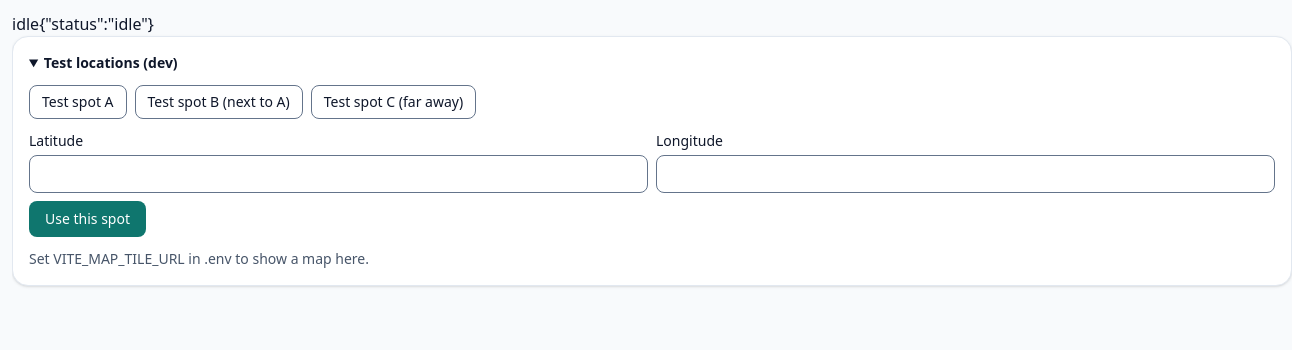
Test: DevLocationPicker › preset Test spot A selects u4pruyd
Click the button "Test spot A".
click(78, 102)  # box [29,85,126,119]
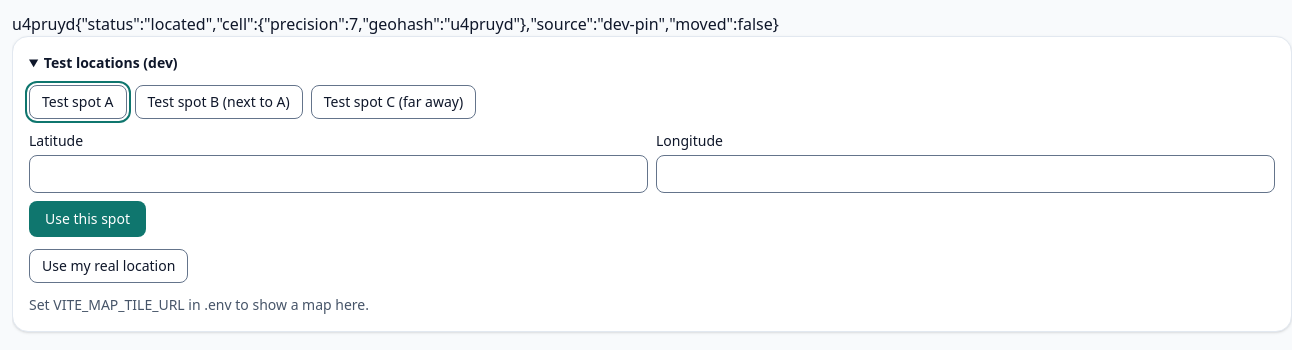
Check: the text with test id "area" reads "u4pruyd", box [12,13,75,35]
